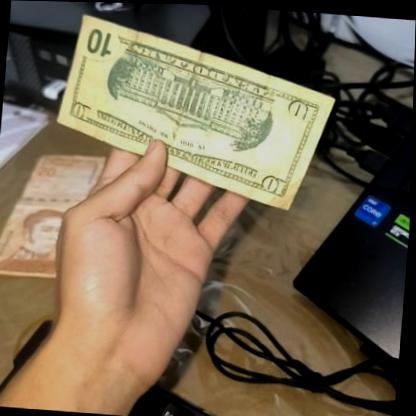ten-back: (51, 8, 343, 213)
